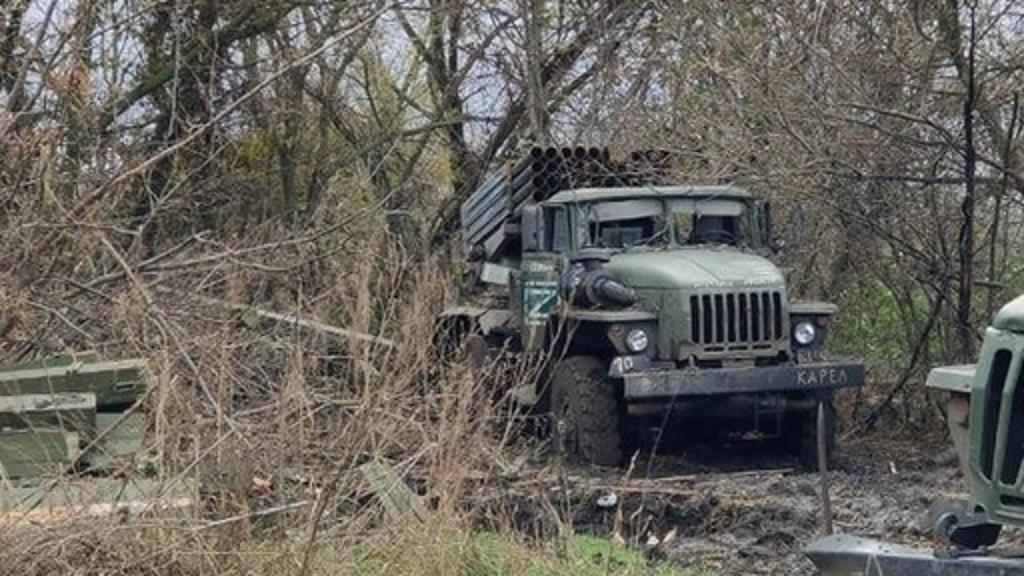MLRS: (412, 126, 870, 482)
